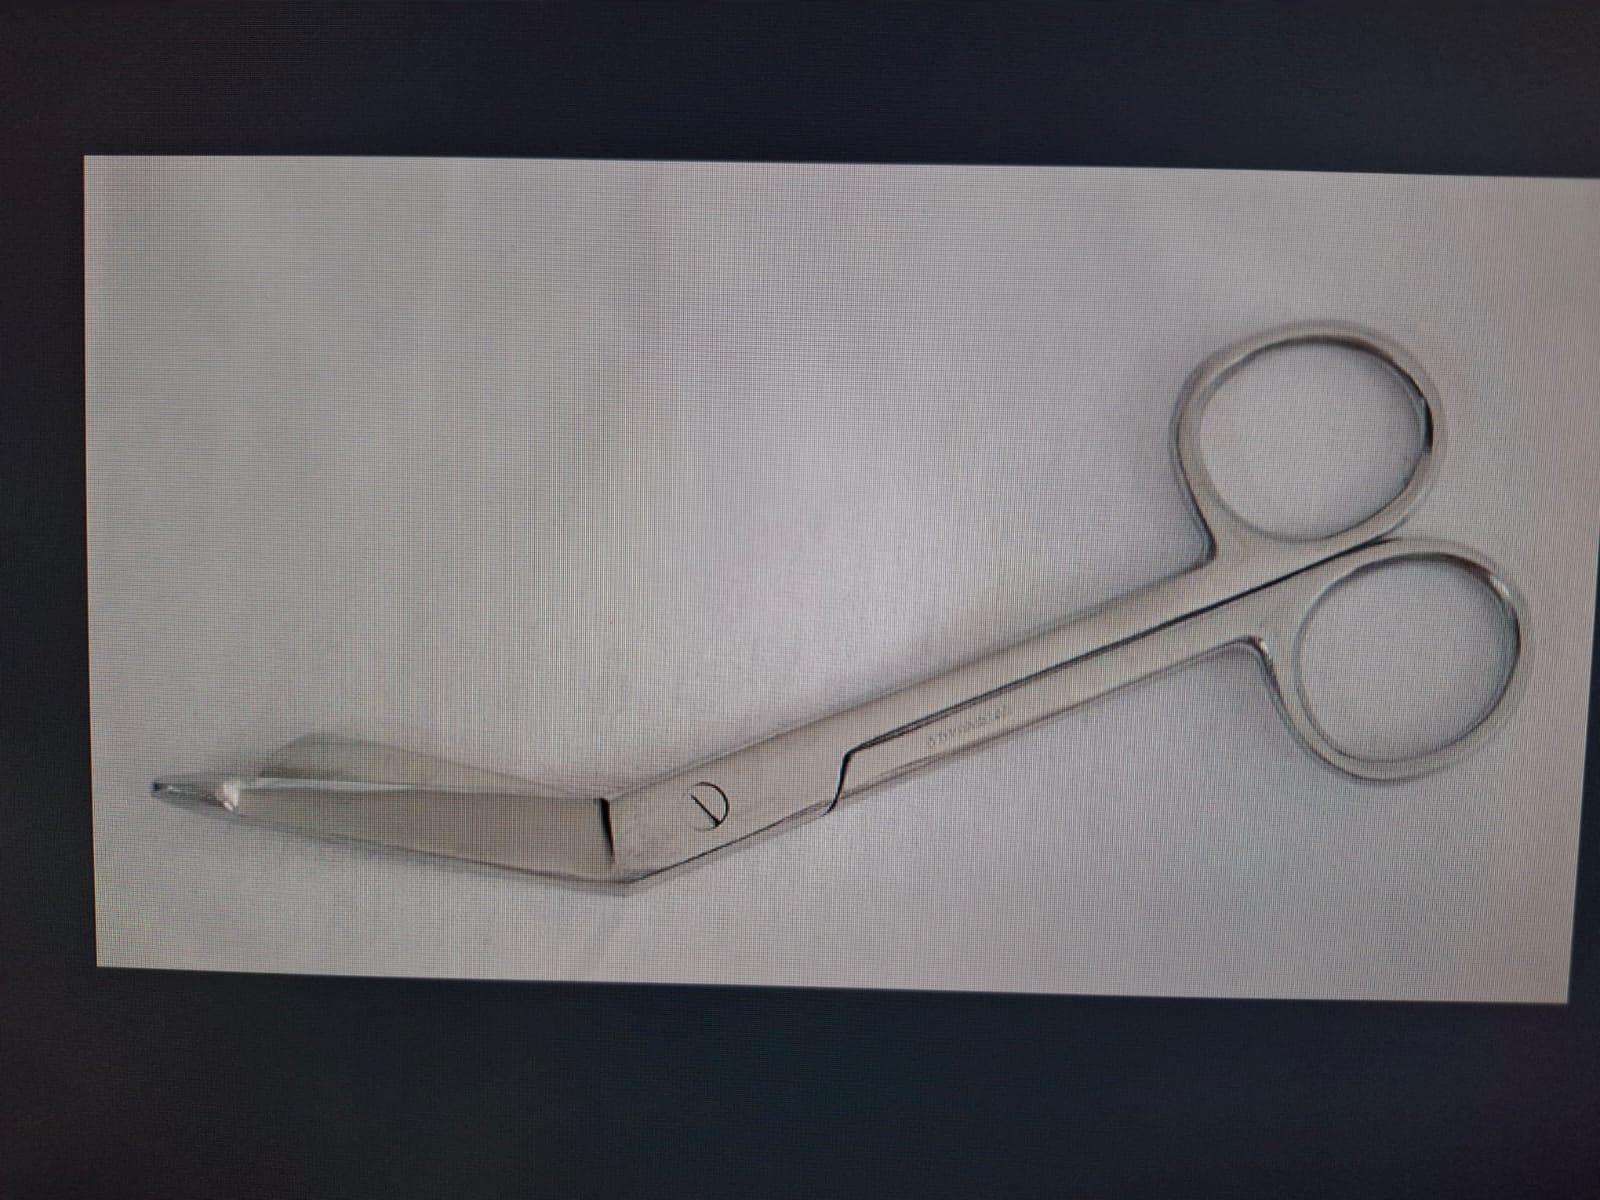Bandage Sciccors: (146, 306, 1546, 914)
